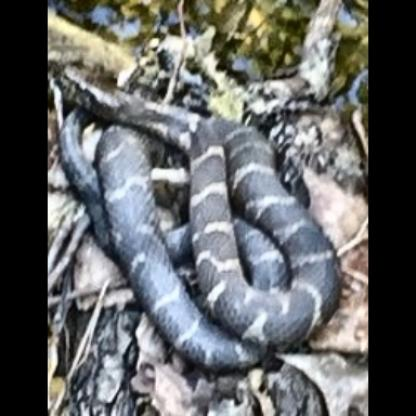Snake: (49, 68, 343, 378)
